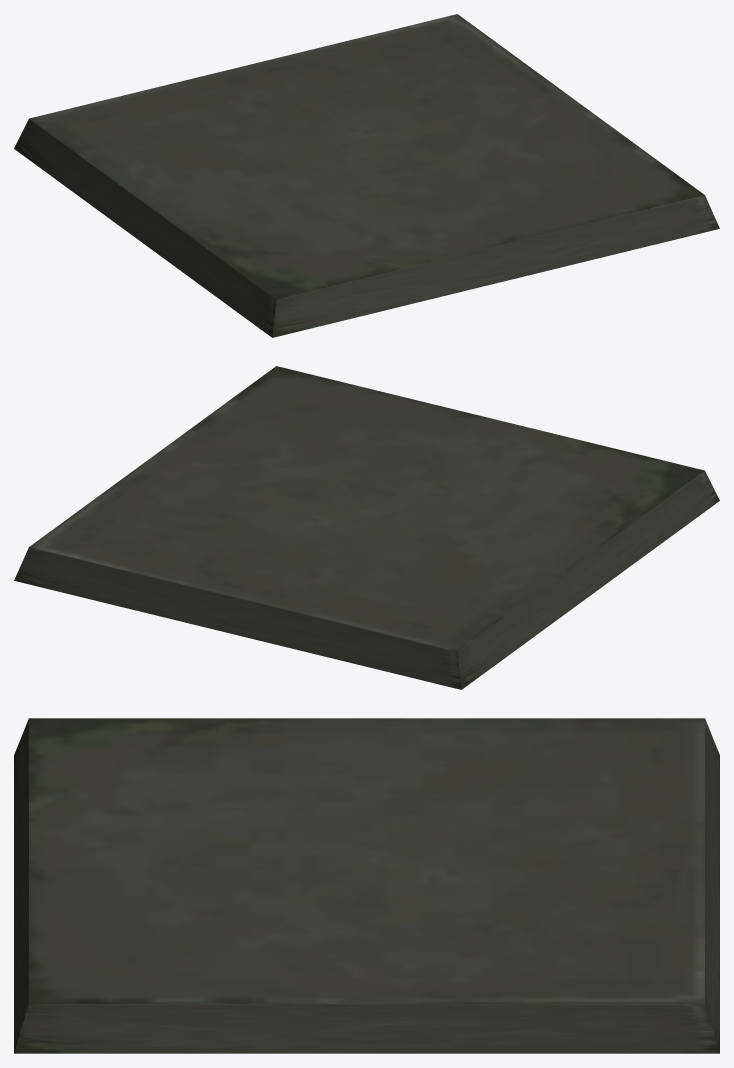
The picture shows the model from 3 angles, top to bottom: view 1: azimuth 30°, elevation 25°; view 2: azimuth 150°, elevation 25°; view 3: azimuth 270°, elevation 25°; orthographic projection. The views are drawn at different scales.
Parts seen in each view (by area): view 1: YC_33; view 2: YC_33; view 3: YC_33.
Boxes of the visible parts, bbox=[...] form: YC_33: bbox=[14, 14, 719, 337]; YC_33: bbox=[14, 366, 719, 689]; YC_33: bbox=[14, 718, 719, 1053].
Size of the model in its own units: 80.13 by 5.46 by 80.13.
